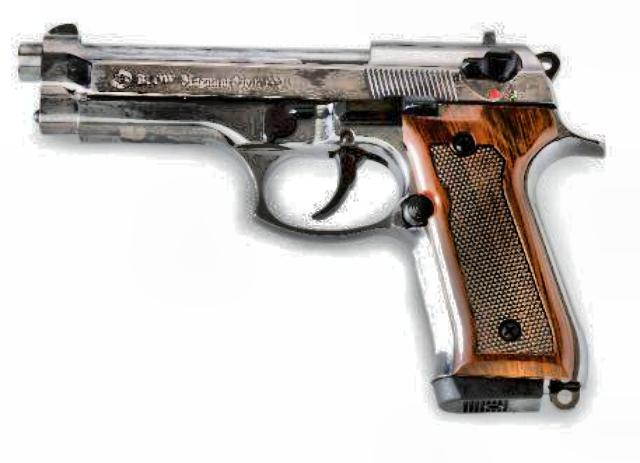pistol: (14, 20, 600, 412)
